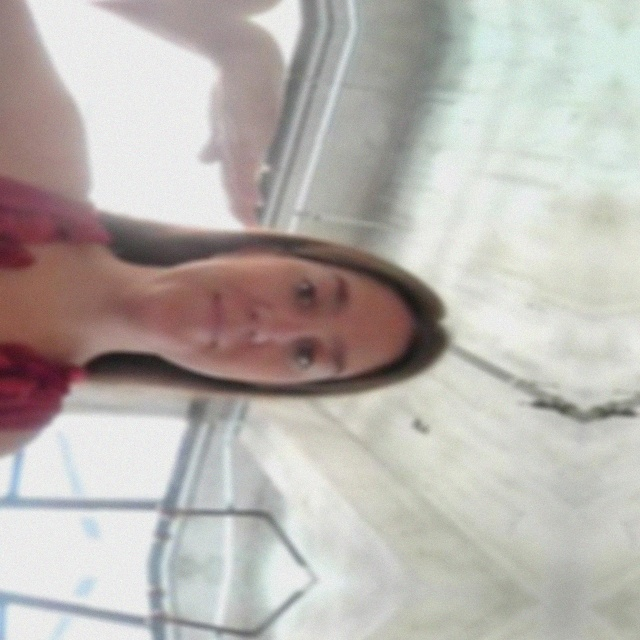Paper: (212, 0, 330, 3)
